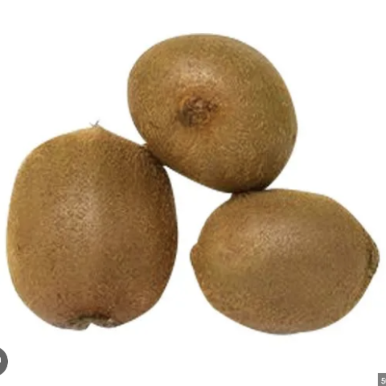kiwi: (0, 109, 186, 350), (114, 20, 316, 208), (180, 189, 379, 354)
